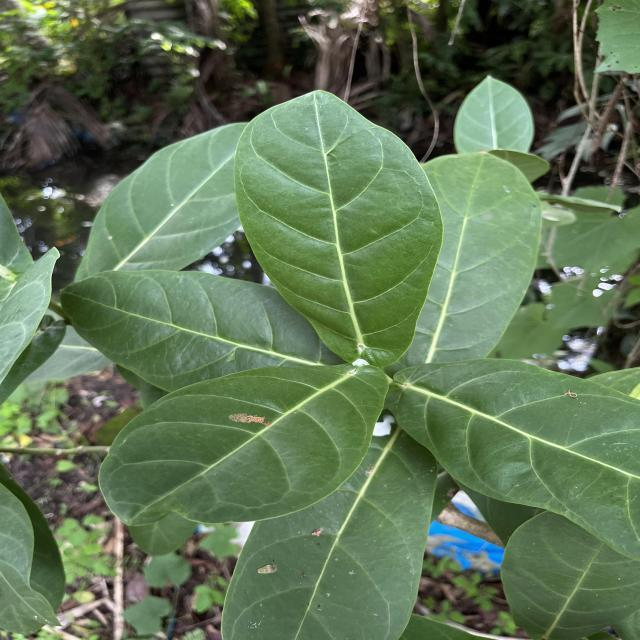Calotropis gigantea: (228, 86, 444, 368), (389, 357, 640, 568), (222, 406, 439, 640), (96, 360, 392, 528), (54, 267, 332, 393), (406, 149, 548, 368)
